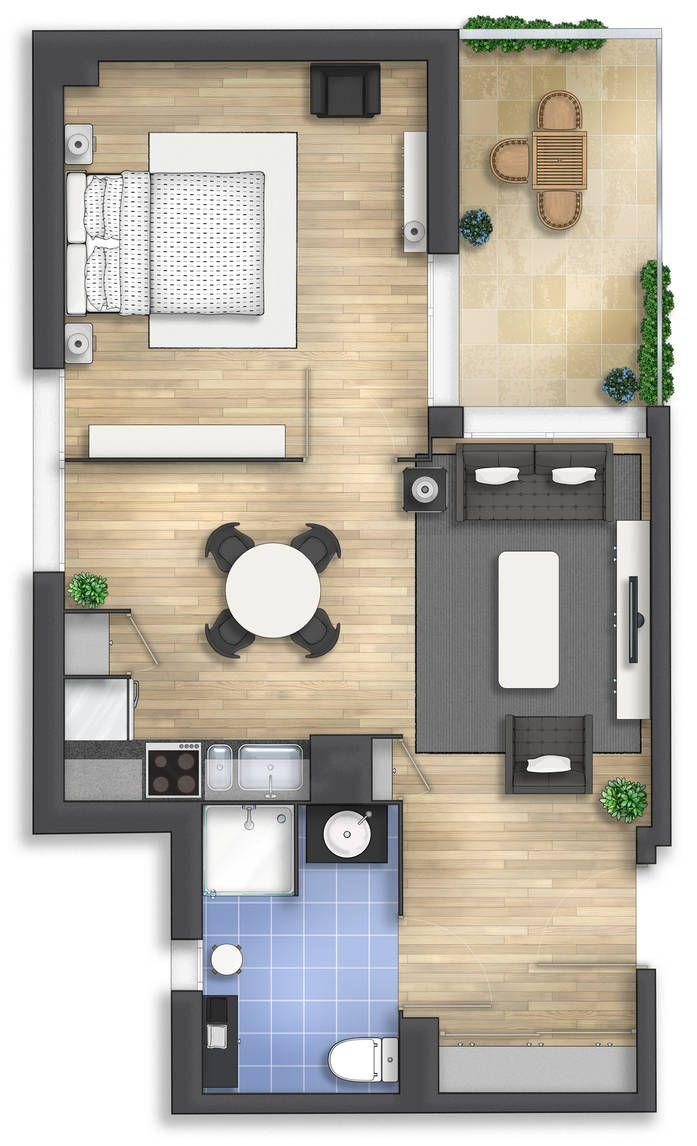room: (46, 62, 438, 798), (431, 413, 655, 1103), (184, 806, 406, 1103)
